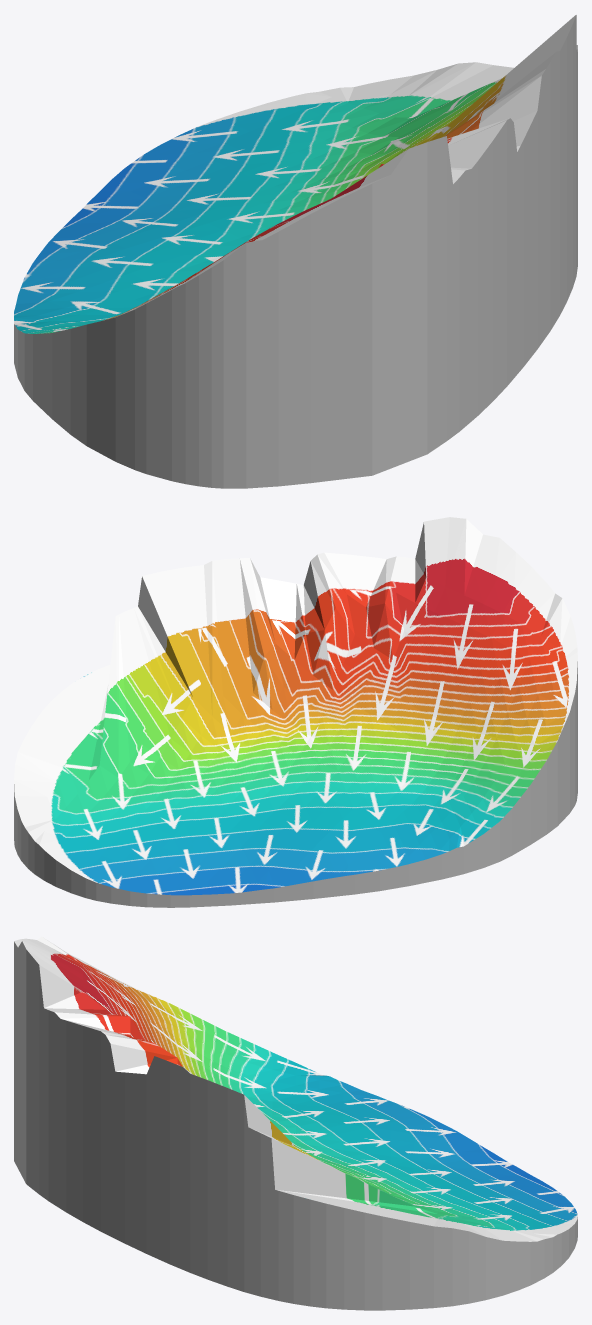
3 renders of one model, top to bottom at view 1: azimuth 30°, elevation 25°; view 2: azimuth 150°, elevation 25°; view 3: azimuth 270°, elevation 25°, orthographic. The views are drawn at different scales.
Bounding box in the file's own units: 3.85 × 1.94 × 4.22.
2 materials, 1 textured.
